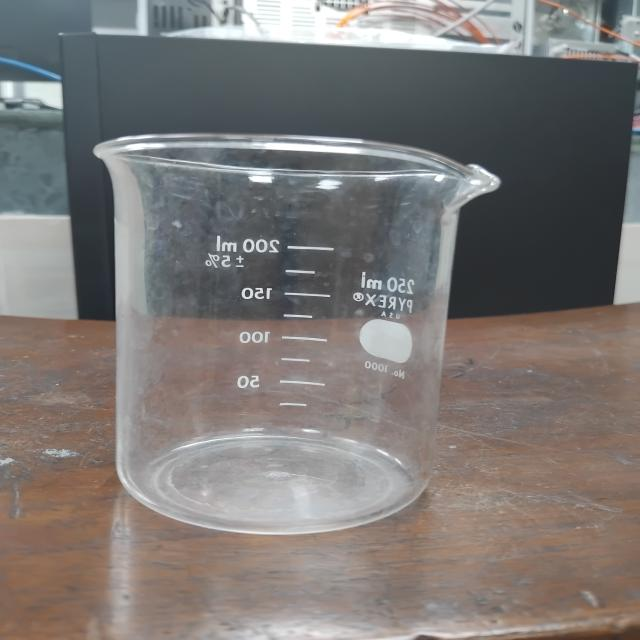Beaker: (67, 91, 519, 552)
